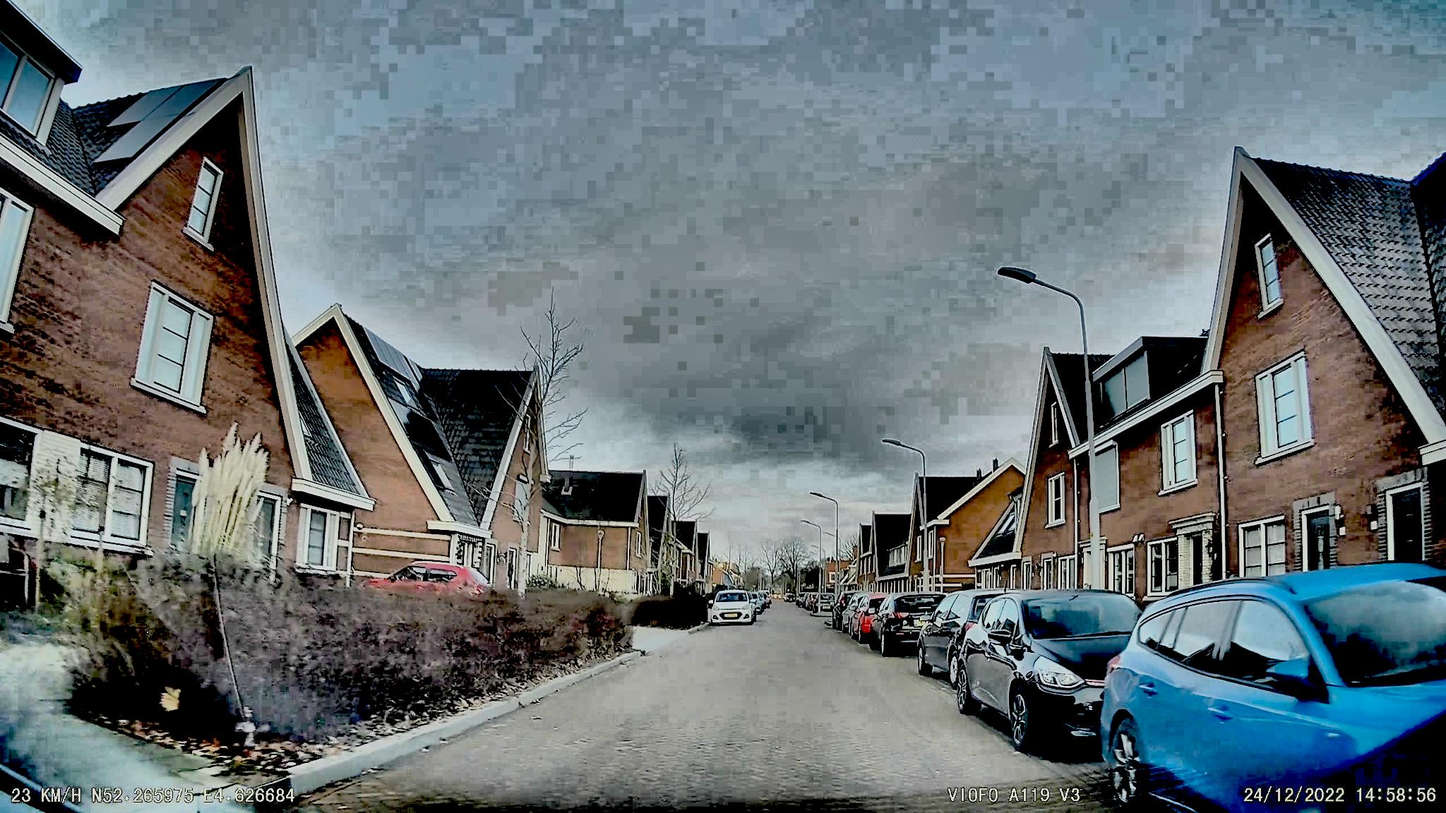Roads: (252, 609, 1118, 813)
